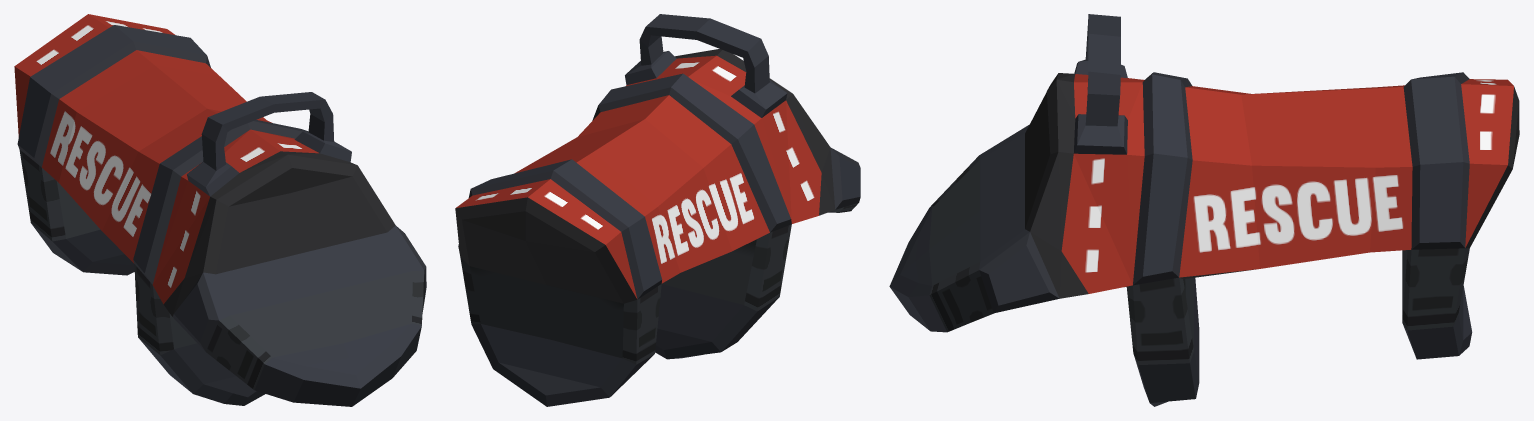
Rendered from SK_Chr_Attach_Vest_Rescue_Medium_01.fbx.
The picture shows the model from 3 angles, left to right: view 1: azimuth 30°, elevation 25°; view 2: azimuth 150°, elevation 25°; view 3: azimuth 270°, elevation 25°; orthographic projection. The views are drawn at different scales.
Visible parts, largest first — view 1: SK_Chr_Attach_Vest_Rescue_Medium_01; view 2: SK_Chr_Attach_Vest_Rescue_Medium_01; view 3: SK_Chr_Attach_Vest_Rescue_Medium_01.
Boxes of the visible parts, box(x1,y1,x2,y2) form: SK_Chr_Attach_Vest_Rescue_Medium_01: box(14, 14, 426, 406); SK_Chr_Attach_Vest_Rescue_Medium_01: box(455, 14, 860, 406); SK_Chr_Attach_Vest_Rescue_Medium_01: box(889, 14, 1519, 406).
Size of the model in its own units: 33.74 by 44.53 by 68.6.
